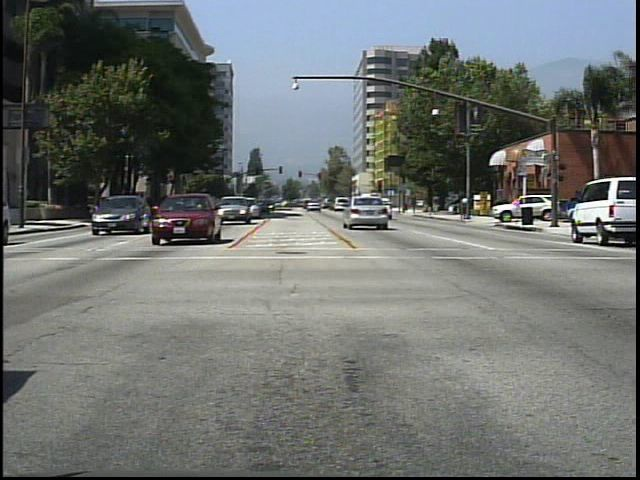person: (457, 190, 472, 222), (431, 190, 444, 217)
